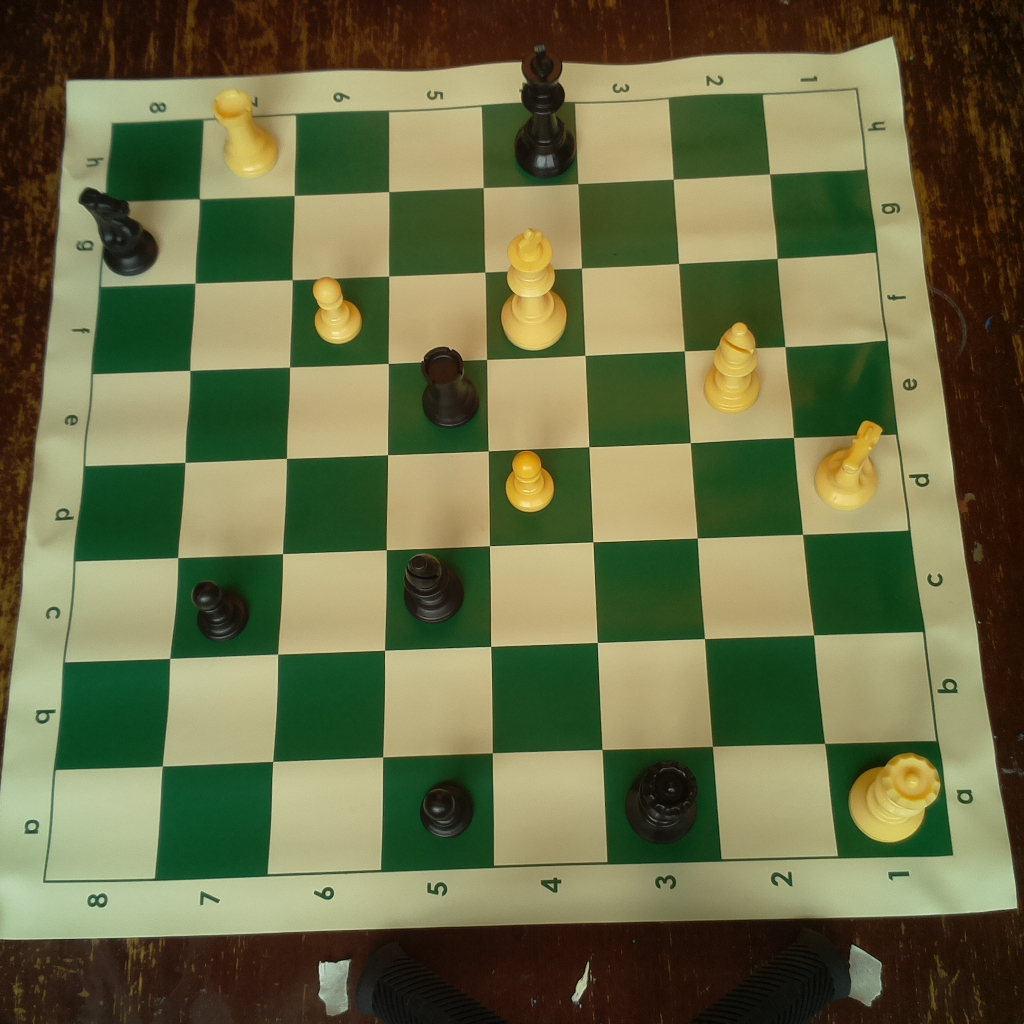black_bishop: (402, 551, 467, 627)
black_king: (511, 38, 579, 182)
black_knight: (79, 180, 163, 278)
black_pawn: (186, 569, 257, 647), (418, 777, 480, 843)
black_queen: (621, 757, 706, 849)
black_rook: (416, 344, 484, 430)
file_a: (44, 743, 951, 886)
file_b: (51, 631, 941, 769)
file_c: (66, 532, 925, 665)
file_d: (73, 435, 911, 562)
file_e: (84, 340, 897, 469)
file_f: (90, 252, 890, 374)
file_g: (101, 171, 875, 288)
file_h: (108, 88, 867, 208)
outline: (44, 91, 957, 887)
rank_1: (762, 88, 957, 858)
rank_2: (668, 92, 841, 862)
rank_3: (575, 97, 724, 861)
rank_4: (483, 99, 608, 866)
rank_5: (379, 105, 496, 871)
rank_6: (268, 112, 390, 875)
rank_7: (154, 115, 297, 882)
rank_8: (41, 118, 206, 879)
white_bishop: (705, 318, 762, 414)
white_king: (498, 225, 572, 354)
white_knight: (811, 417, 889, 515)
white_pawn: (310, 271, 367, 351), (498, 445, 563, 515)
white_queen: (844, 741, 941, 848)
white_rook: (206, 86, 284, 177)
